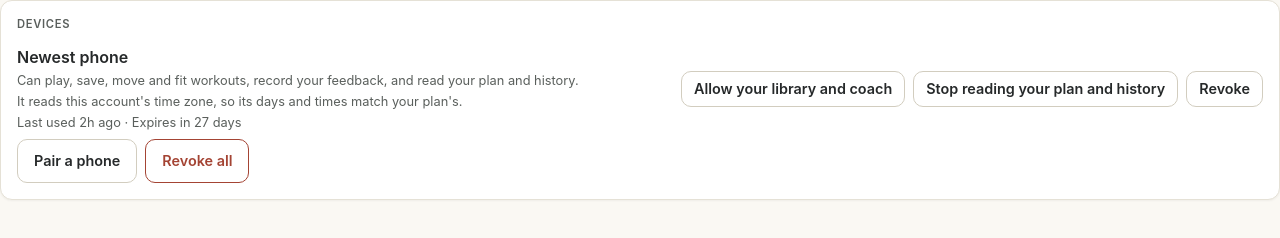
Settings → Devices › a v4 phone's step-down: one line saying what stops (what v4 does today: reading the coming weeks and history) and that it stays paired; Stop sends v3
Click the button "Stop reading your plan and history".
click(1046, 89)  # box [913, 71, 1178, 107]
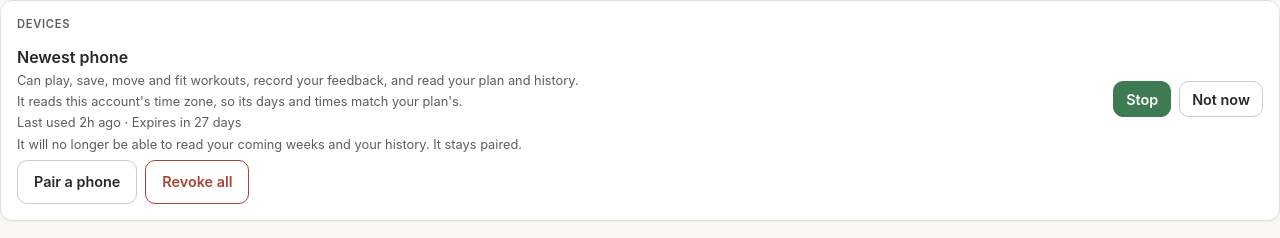
Expected: the element with class "setting-row" shows "It will no longer be able to read your coming weeks and your history. It stays paired.", [17, 137, 522, 152]
Click the button "Stop".
click(1142, 99)  # box [1113, 81, 1171, 117]
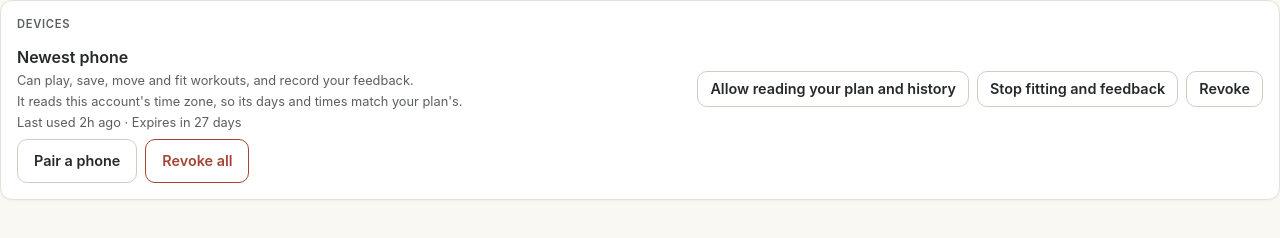
Expected: the element with class "setting-row" shows "Can play, save, move and fit workouts, and record your feedback.", [17, 39, 1263, 139]
